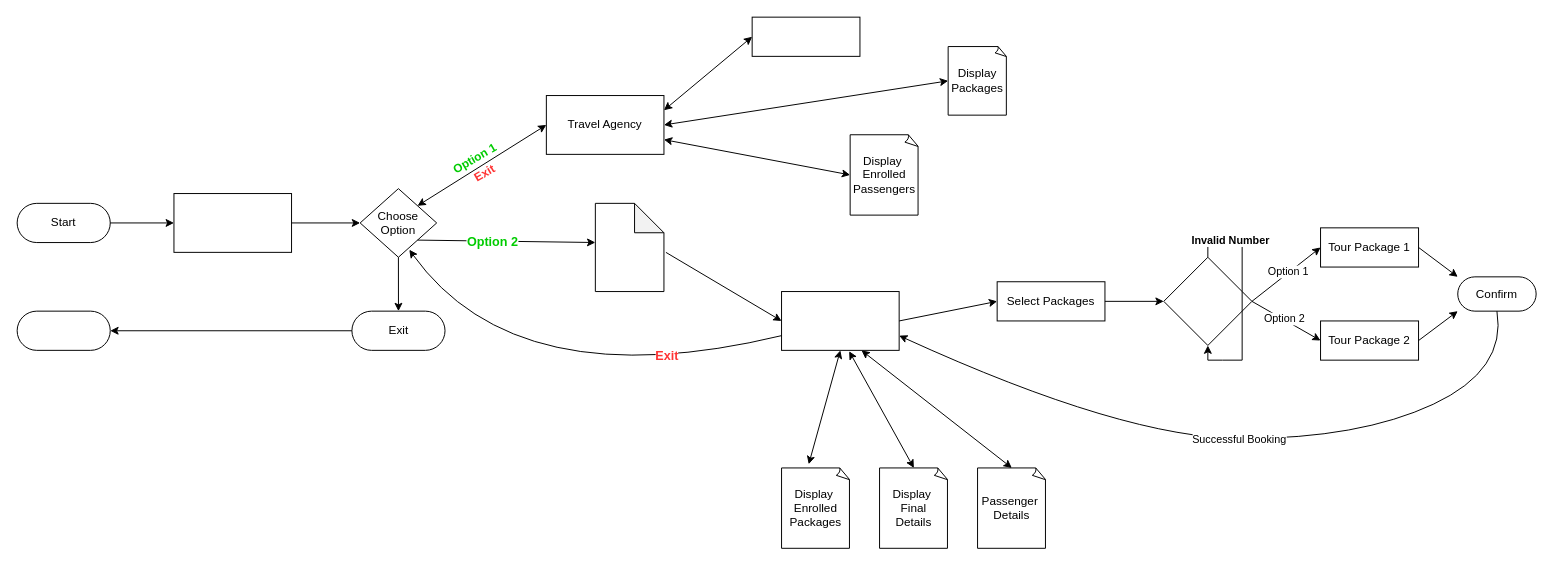
Image size: 1553x565. Some labels were removed from this diagram. The centre of each missing label's shape, as x and y in pixels:
Choose Packages: (x=1207, y=300)
Create Packages: (x=805, y=36)
Create Passenger: (x=629, y=247)
Passenger: (x=840, y=320)
Stop: (x=63, y=330)
User Interface: (x=232, y=222)
